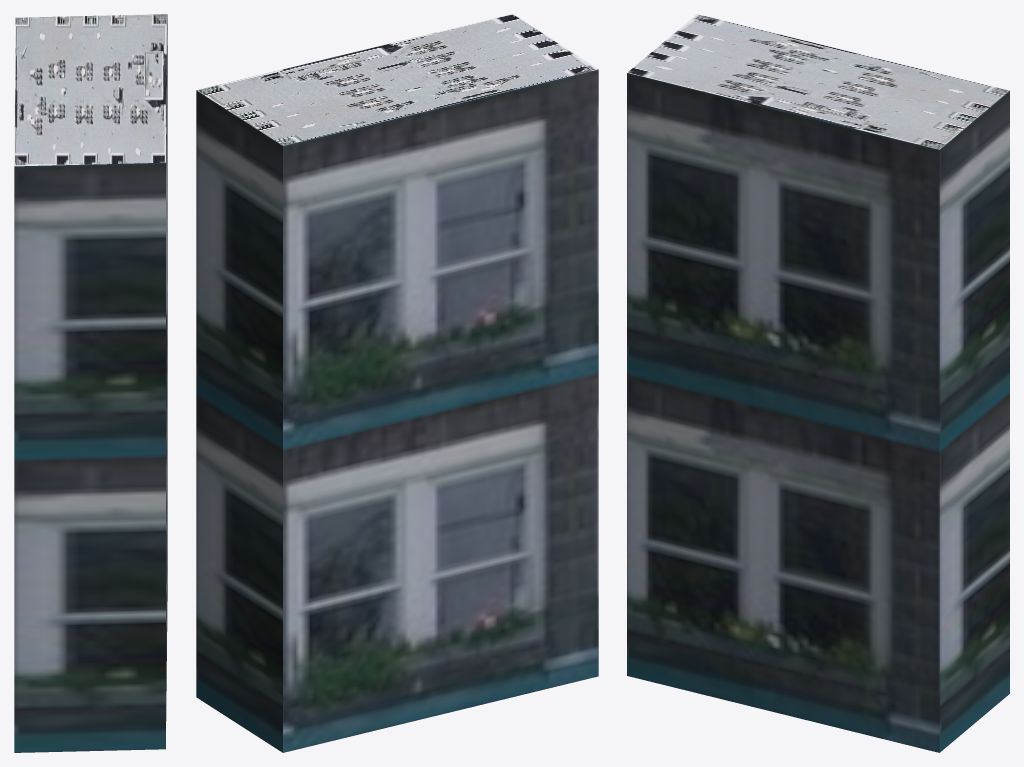
File: ResTex__3754.fbx
3 renders of one model, left to right at view 1: azimuth 30°, elevation 25°; view 2: azimuth 150°, elevation 25°; view 3: azimuth 270°, elevation 25°, orthographic. The views are drawn at different scales.
Parts seen in each view (by area): view 1: CityEngineMaterial_11_m, CityEngineMaterial_m; view 2: CityEngineMaterial_11_m, CityEngineMaterial_m; view 3: CityEngineMaterial_11_m, CityEngineMaterial_m.
Part boxes in pixels (bbox=[...]): CityEngineMaterial_11_m: bbox=[14, 15, 167, 752]; CityEngineMaterial_m: bbox=[14, 14, 167, 166]; CityEngineMaterial_11_m: bbox=[196, 69, 598, 752]; CityEngineMaterial_m: bbox=[197, 14, 598, 145]; CityEngineMaterial_11_m: bbox=[627, 73, 1009, 752]; CityEngineMaterial_m: bbox=[627, 14, 1009, 149].
Size of the model in its own units: 2.9 by 6 by 3.45.
Materials: 2 (2 with a texture image).
